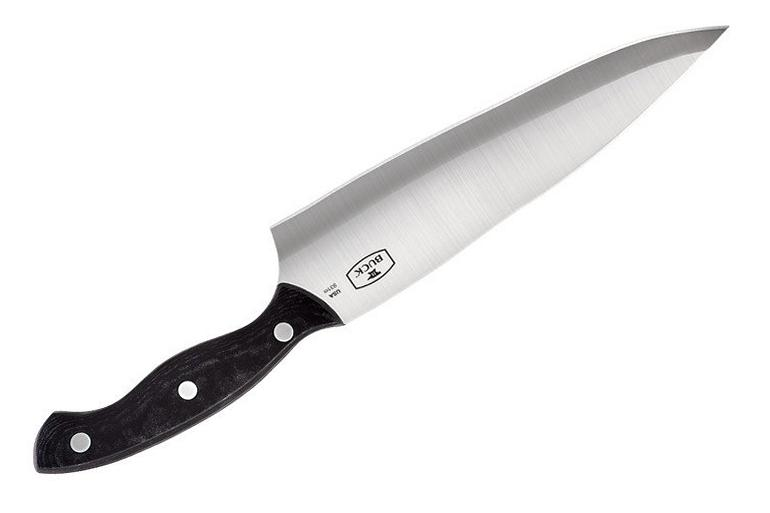knife: (36, 26, 731, 474)
